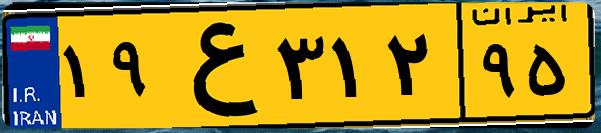1: (330, 28, 385, 110), (57, 26, 110, 100)
2: (385, 28, 445, 110)
3: (270, 28, 330, 110)
5: (525, 38, 570, 115)
9: (475, 38, 525, 113), (110, 28, 158, 98)
ع: (158, 12, 270, 120)
